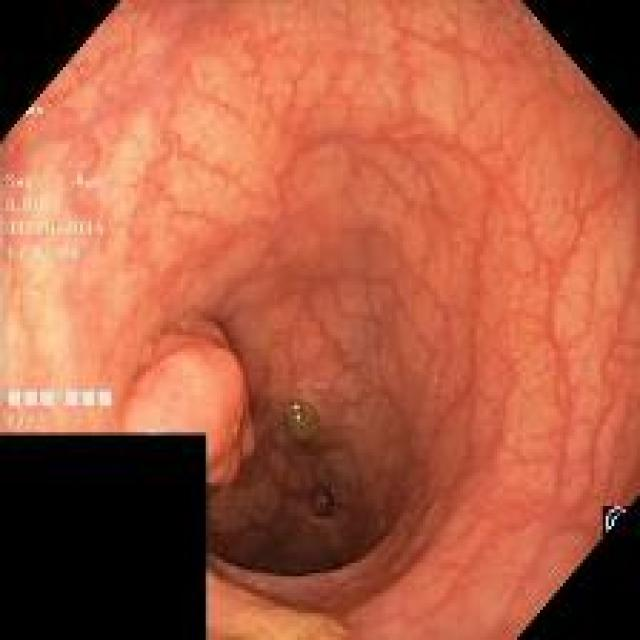Polyps: (122, 318, 255, 484)
